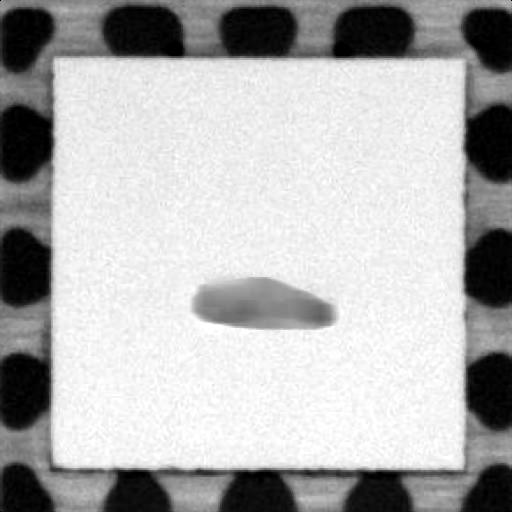DIE_INK: (167, 266, 356, 336)
